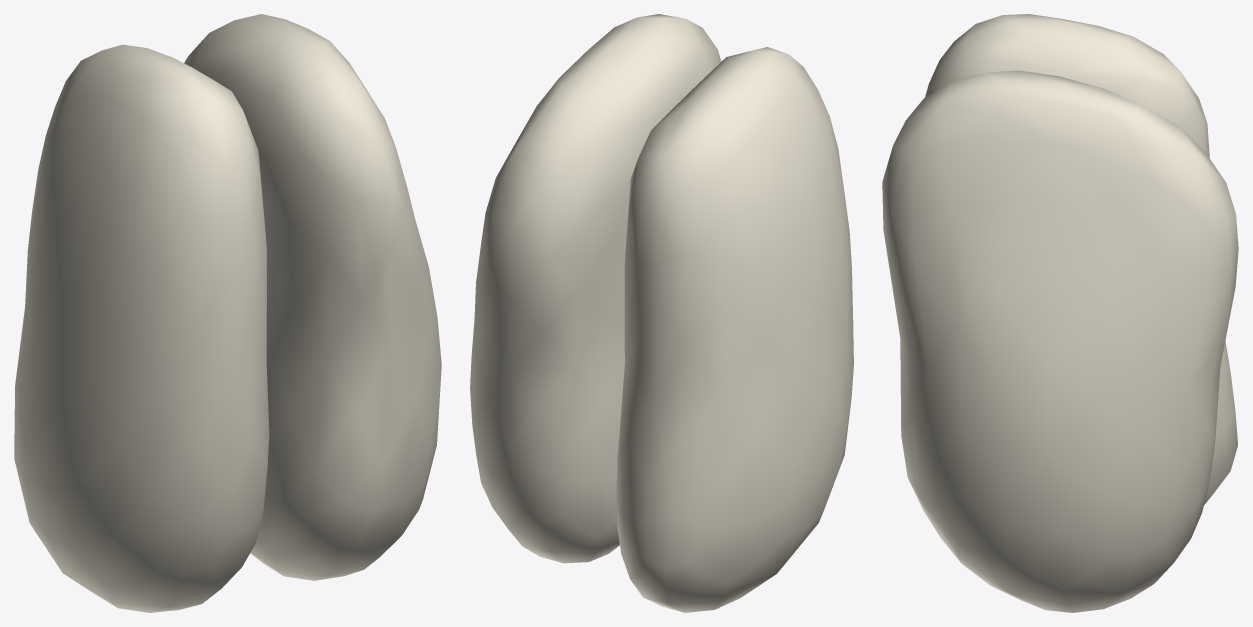
3 renders of one model, left to right at view 1: azimuth 30°, elevation 25°; view 2: azimuth 150°, elevation 25°; view 3: azimuth 270°, elevation 25°, orthographic. The views are drawn at different scales.
Visible parts, largest first — view 1: ZA_1274e7652683c1f7; view 2: ZA_1274e7652683c1f7; view 3: ZA_1274e7652683c1f7.
Boxes of the visible parts, box(x1,y1,x2,y2) form: ZA_1274e7652683c1f7: box(14, 14, 441, 612); ZA_1274e7652683c1f7: box(470, 14, 853, 612); ZA_1274e7652683c1f7: box(882, 14, 1238, 612).
Bounding box in the file's own units: 0.00904 × 0.0133 × 0.00837.
